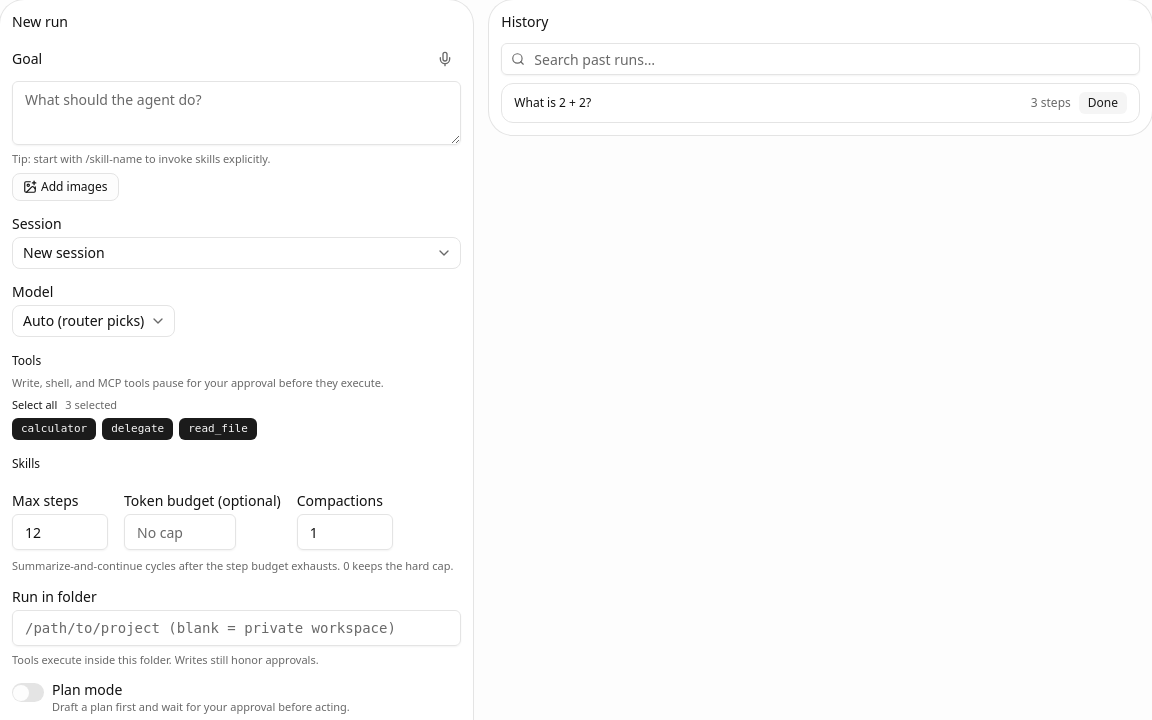
Test: lists checkpoints and restores one after confirmation
Click the button "What is 2 + 2? 3 steps Done" at (553, 103), box [501,83,1140,123]
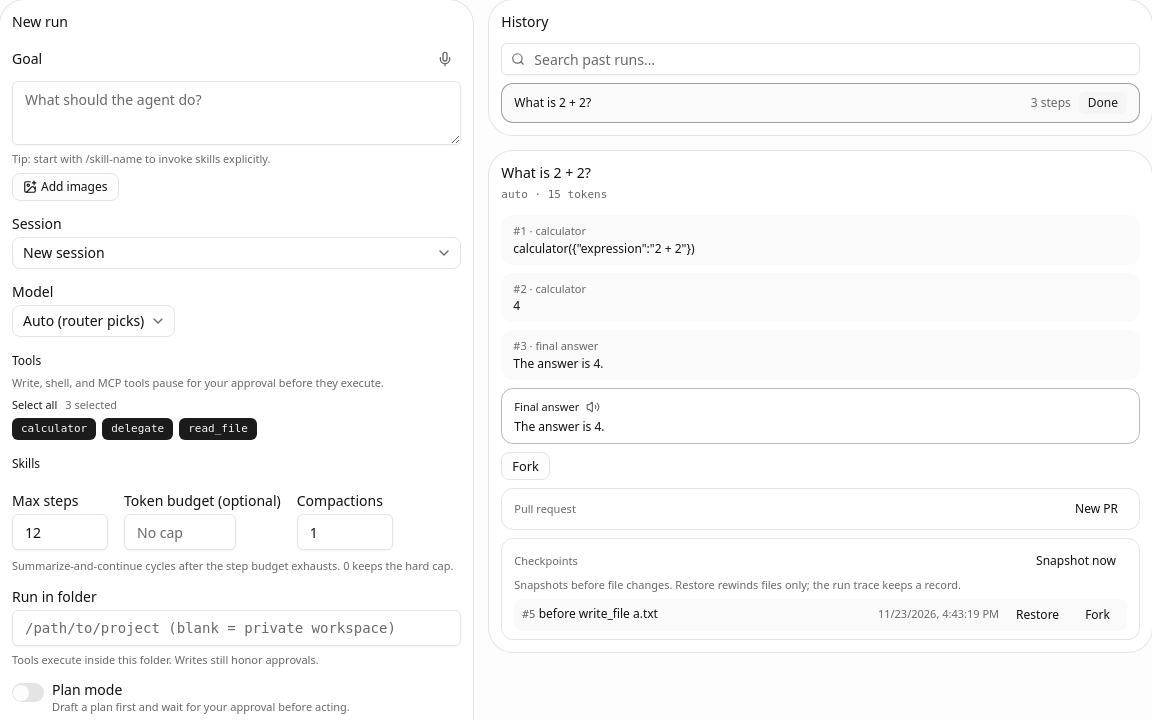
Expected: the text "before write_file a.txt" is shown, [539,605,658,622]
Expected: the button "Restore" is shown
Expected: the button "Restore" is enabled
Click the button "Restore" at (1038, 615), box [1007,603,1068,627]
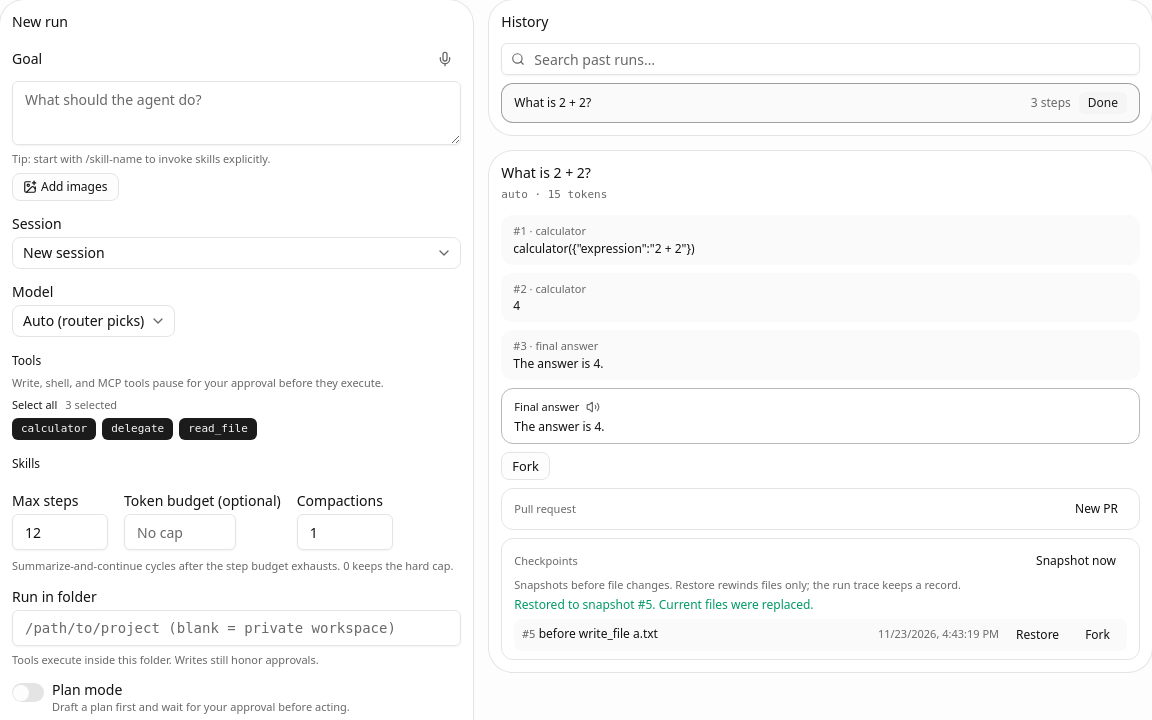
Expected: the text "Restored to snapshot #5" is shown, [514,596,814,613]
